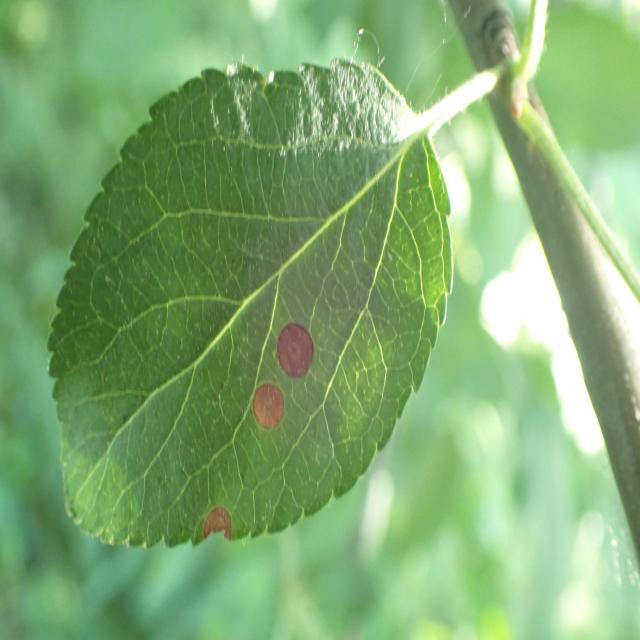Black Rot: (266, 317, 331, 388), (240, 379, 294, 443), (193, 495, 240, 556)
